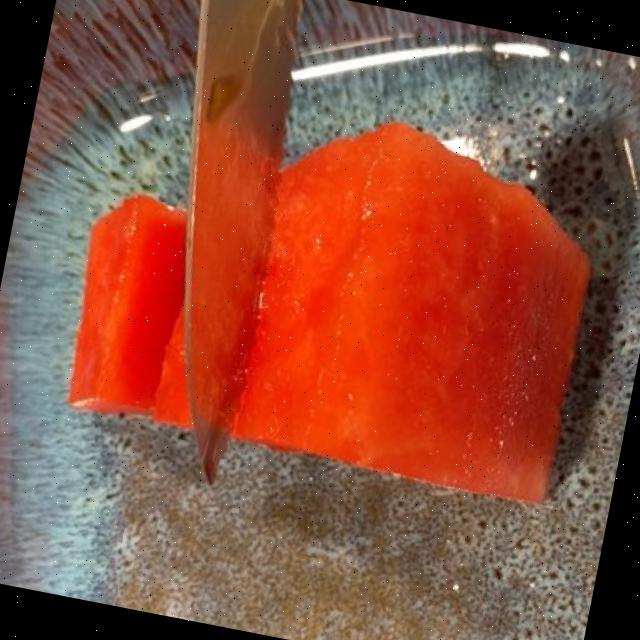watermelon-fresh: (77, 128, 587, 504)
